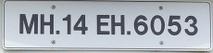character: (18, 12, 39, 34), (39, 11, 54, 35), (72, 13, 88, 34), (150, 14, 165, 36), (133, 14, 148, 35), (110, 14, 125, 34), (167, 14, 181, 35), (184, 15, 198, 36), (96, 13, 109, 35), (61, 13, 72, 34)
